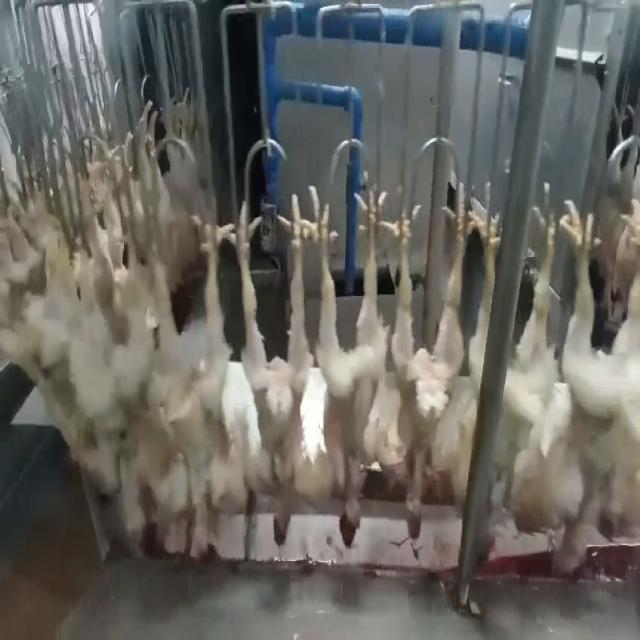chicken: (143, 198, 247, 558), (378, 188, 476, 537), (552, 204, 639, 580), (318, 177, 393, 553), (238, 188, 310, 540), (506, 210, 566, 534)
